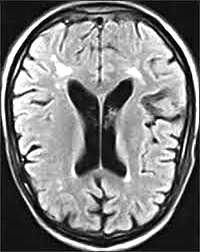Normal_Brain: (3, 1, 200, 252)
